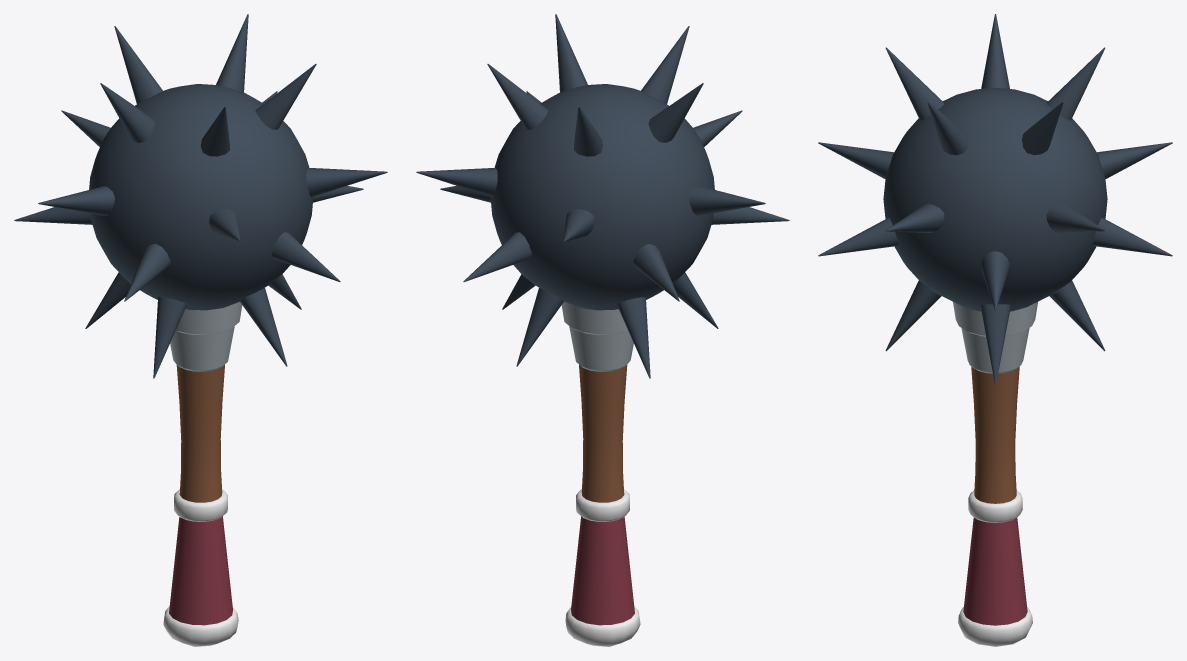
File: Mace.fbx
3 views of the same model, side by side, from view 1: azimuth 30°, elevation 25°; view 2: azimuth 150°, elevation 25°; view 3: azimuth 270°, elevation 25° (orthographic).
Visible parts, largest first — view 1: Mace; view 2: Mace; view 3: Mace.
Boxes of the visible parts, x1,y1,x2,y2 form: Mace: (14, 14, 387, 646); Mace: (416, 14, 789, 646); Mace: (818, 14, 1172, 646).
Bounding box in the file's own units: 0.5203 × 0.8922 × 0.4951.
